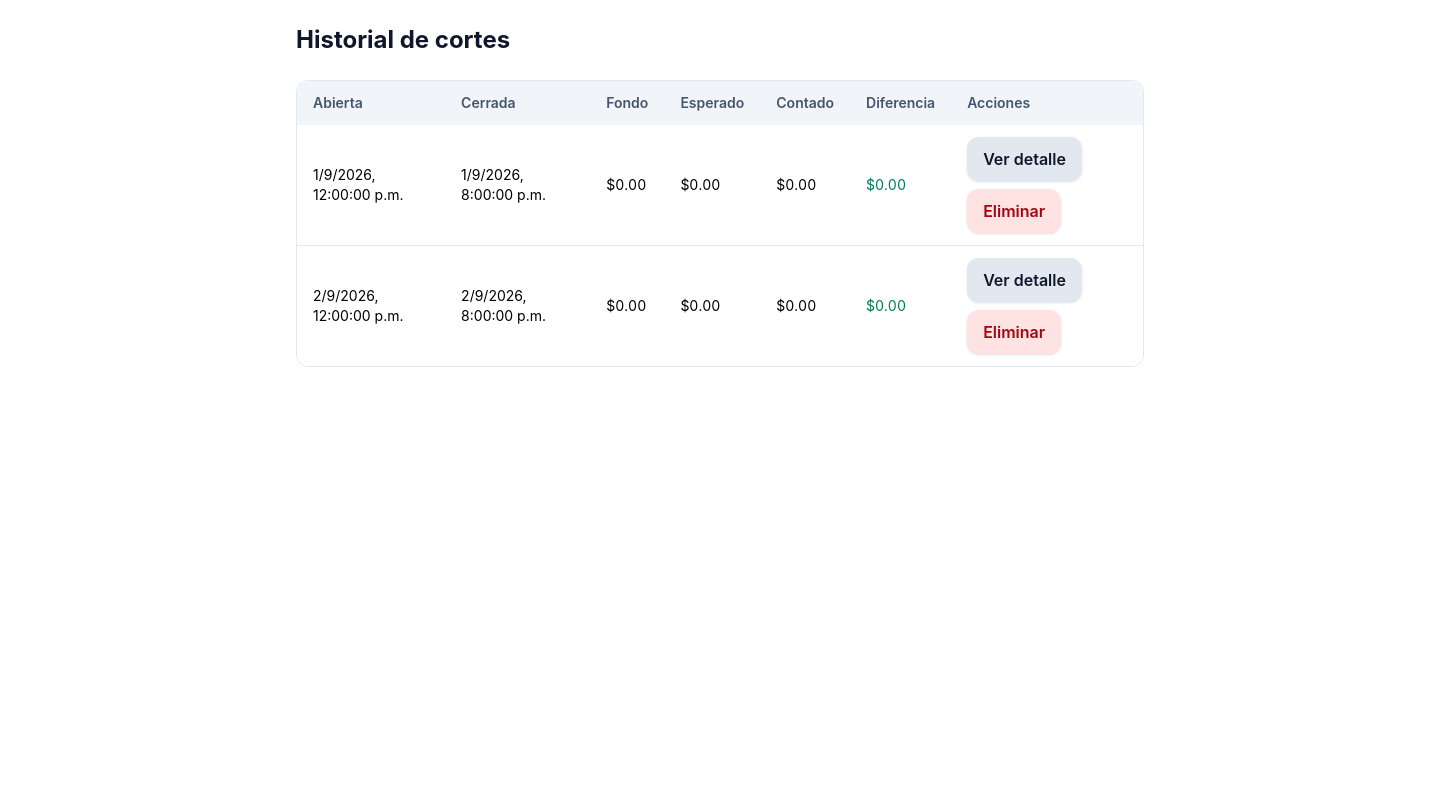
Test: permanent cash history deletion › deletes exactly the selected id and removes only that row without reloading
Click the button with aria-label "eliminar corte del" at (1014, 211), box [967,189,1061,233]
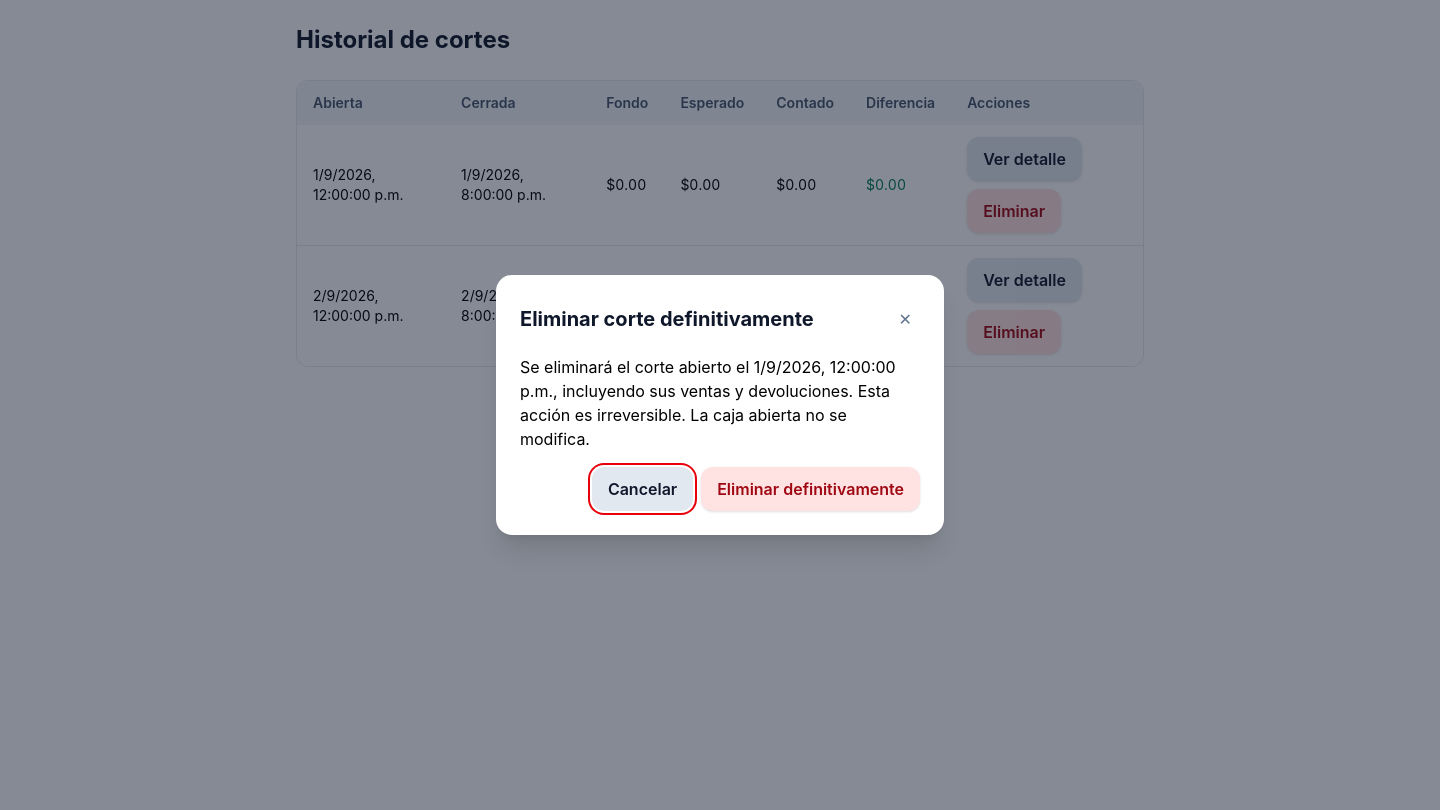
Click the button "Eliminar definitivamente" at (811, 489), box [701,467,920,511]
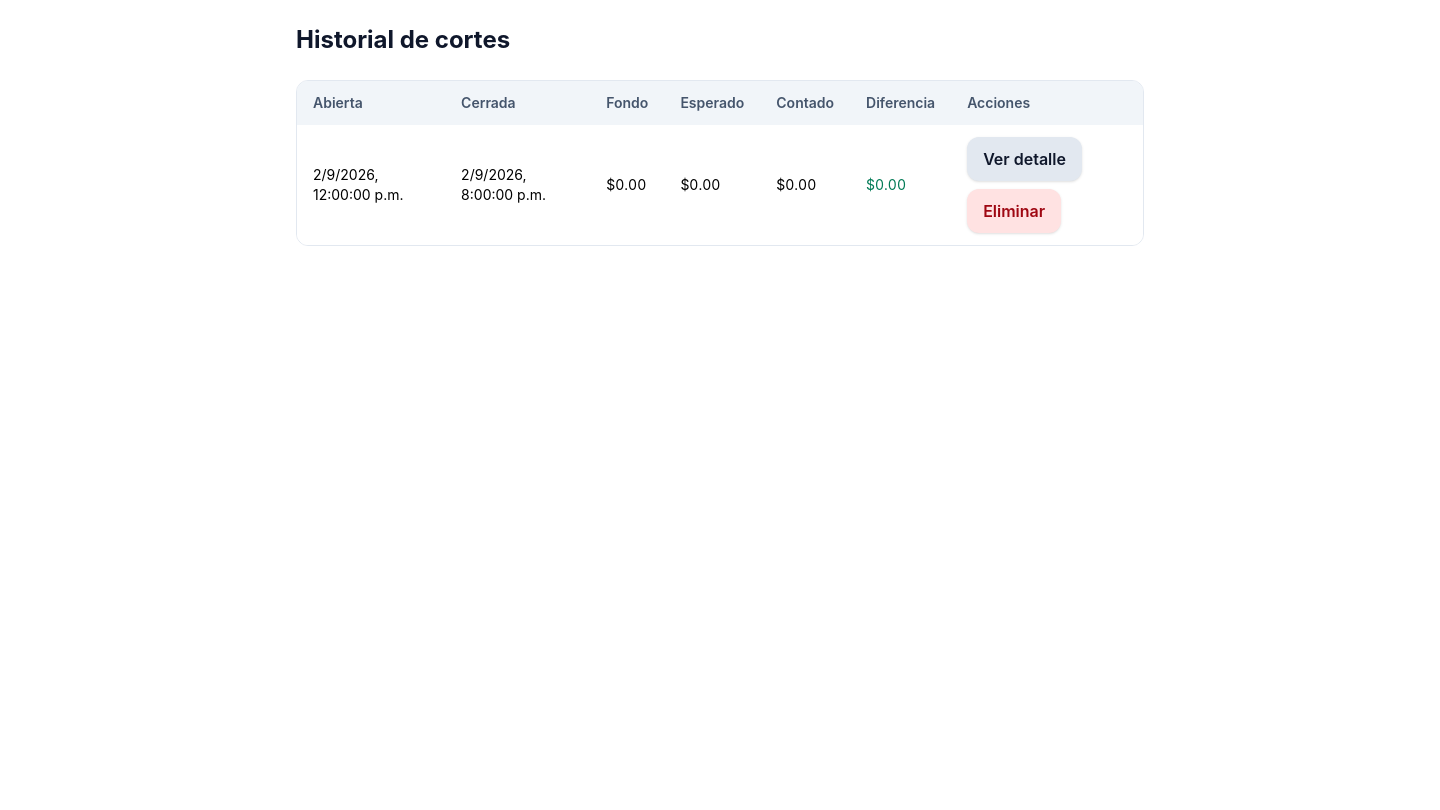
Now the dialog is gone
Now the number of buttons named "eliminar corte del" is 1, box [967,189,1061,233]
